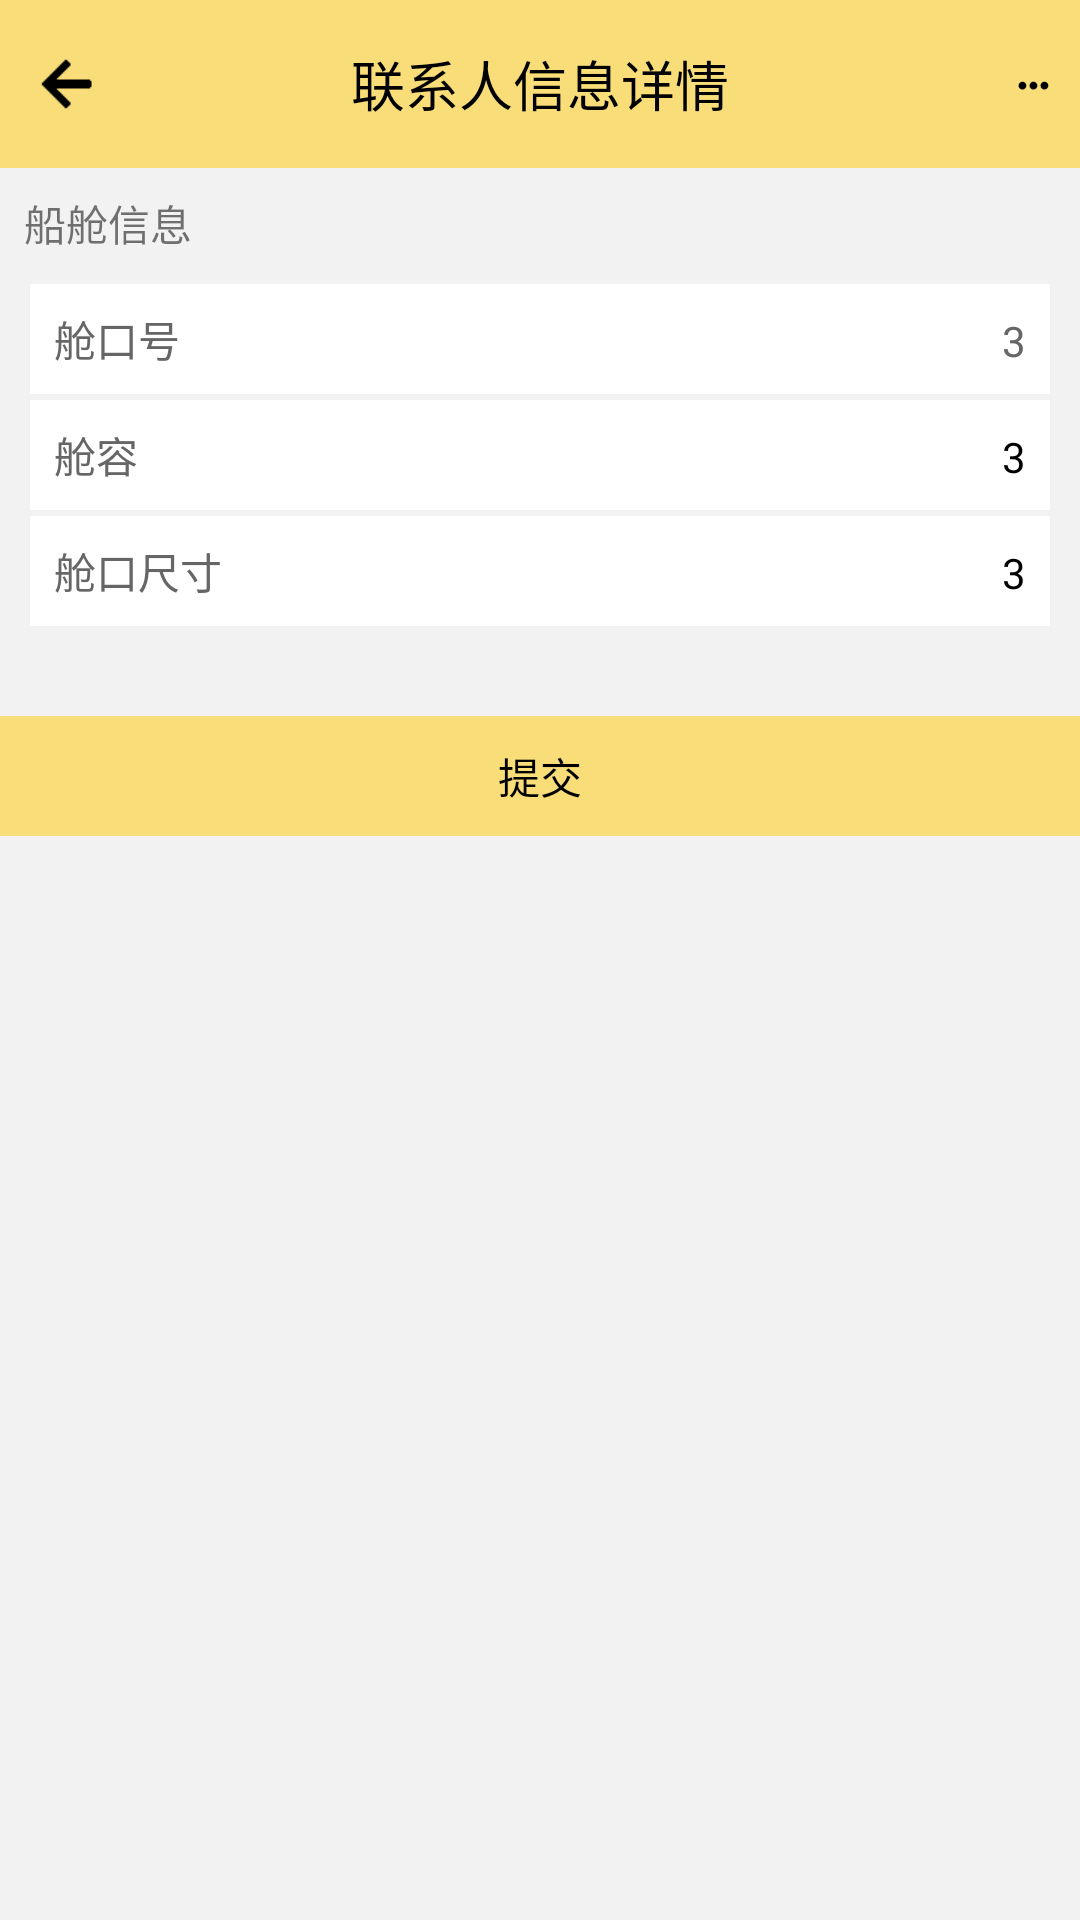

Named icons in this screenshot (1080px x 1920px) and their bounding boxes, BBox(x1, y1, x2, y2):
back: BBox(41, 59, 92, 109)
